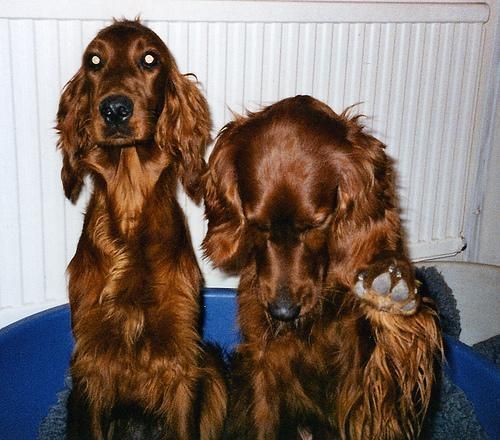Irish_setter: (200, 94, 451, 438), (45, 12, 226, 438)
